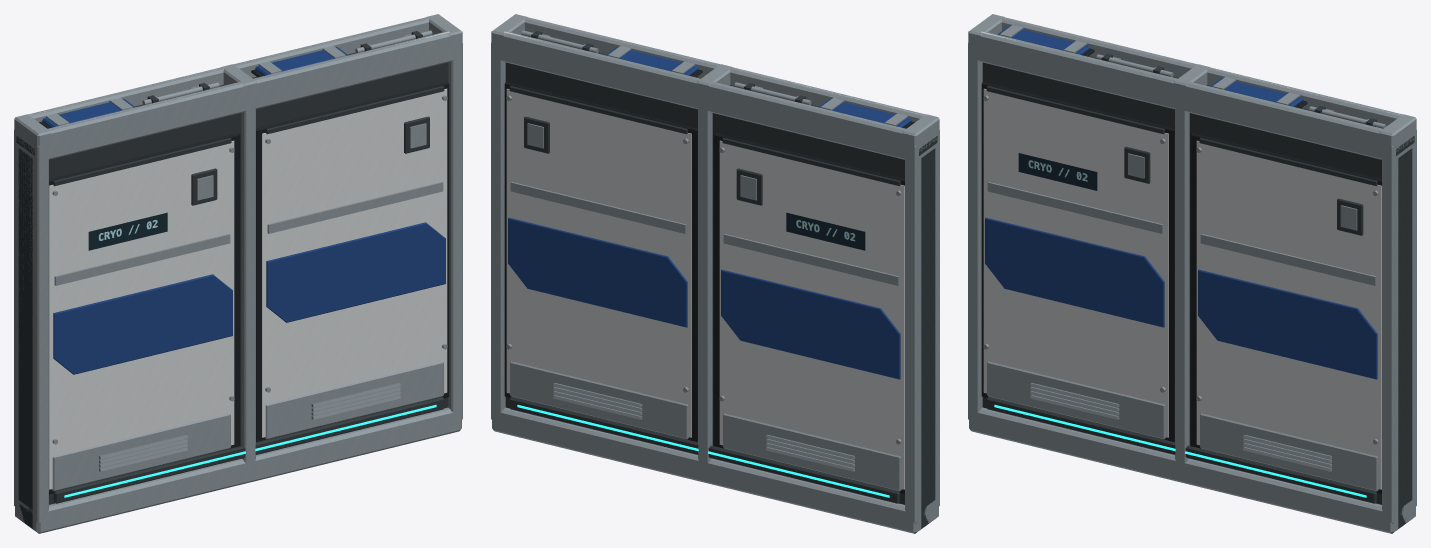
File: 01_wall_module.gltf
3 renders of one model, left to right at view 1: azimuth 30°, elevation 25°; view 2: azimuth 150°, elevation 25°; view 3: azimuth 330°, elevation 25°, orthographic.
Parts seen in each view (by area): view 1: 01_Cryo_Ceramic_Enamel, 01_Cryo_Brushed_Steel, 01_Cryo_Cobalt_Enamel, 01_Cryo_Anodized_Frame, 01_Cryo_EPDM_Gasket, 01_CRYO_SHARED_SIGNAGE_002, 01_Cryo_Cyan_Practical; view 2: 01_Cryo_Ceramic_Enamel, 01_Cryo_Brushed_Steel, 01_Cryo_Cobalt_Enamel, 01_Cryo_Anodized_Frame, 01_Cryo_EPDM_Gasket, 01_CRYO_SHARED_SIGNAGE_002, 01_Cryo_Cyan_Practical; view 3: 01_Cryo_Ceramic_Enamel, 01_Cryo_Brushed_Steel, 01_Cryo_Cobalt_Enamel, 01_Cryo_Anodized_Frame, 01_Cryo_EPDM_Gasket, 01_CRYO_SHARED_SIGNAGE_002, 01_Cryo_Cyan_Practical.
Boxes of the visible parts, x1,y1,x2,y2 form: 01_Cryo_Ceramic_Enamel: (29, 30, 449, 489); 01_Cryo_Brushed_Steel: (14, 14, 462, 533); 01_Cryo_Cobalt_Enamel: (42, 47, 445, 374); 01_Cryo_Anodized_Frame: (16, 31, 448, 528); 01_Cryo_EPDM_Gasket: (39, 69, 449, 494); 01_CRYO_SHARED_SIGNAGE_002: (88, 212, 167, 250); 01_Cryo_Cyan_Practical: (64, 405, 436, 497); 01_Cryo_Ceramic_Enamel: (504, 28, 925, 489); 01_Cryo_Brushed_Steel: (491, 14, 939, 533); 01_Cryo_Cobalt_Enamel: (508, 47, 911, 379); 01_Cryo_Anodized_Frame: (505, 31, 937, 528); 01_Cryo_EPDM_Gasket: (504, 69, 914, 494); 01_CRYO_SHARED_SIGNAGE_002: (786, 212, 865, 250); 01_Cryo_Cyan_Practical: (517, 405, 889, 497); 01_Cryo_Ceramic_Enamel: (981, 31, 1403, 489); 01_Cryo_Brushed_Steel: (968, 14, 1416, 533); 01_Cryo_Cobalt_Enamel: (985, 26, 1377, 379); 01_Cryo_Anodized_Frame: (982, 54, 1414, 528); 01_Cryo_EPDM_Gasket: (981, 48, 1381, 494); 01_CRYO_SHARED_SIGNAGE_002: (1018, 153, 1097, 190); 01_Cryo_Cyan_Practical: (994, 405, 1366, 497).
Bounding box in the file's own units: 4 × 3.6 × 0.4.
7 materials, 6 textured.
